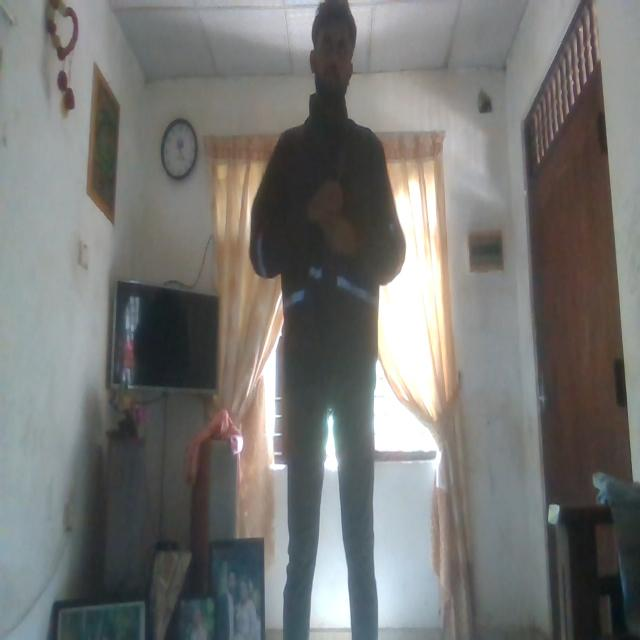Jacket_Wearer: (258, 108, 409, 384)
Person: (242, 0, 406, 640)
